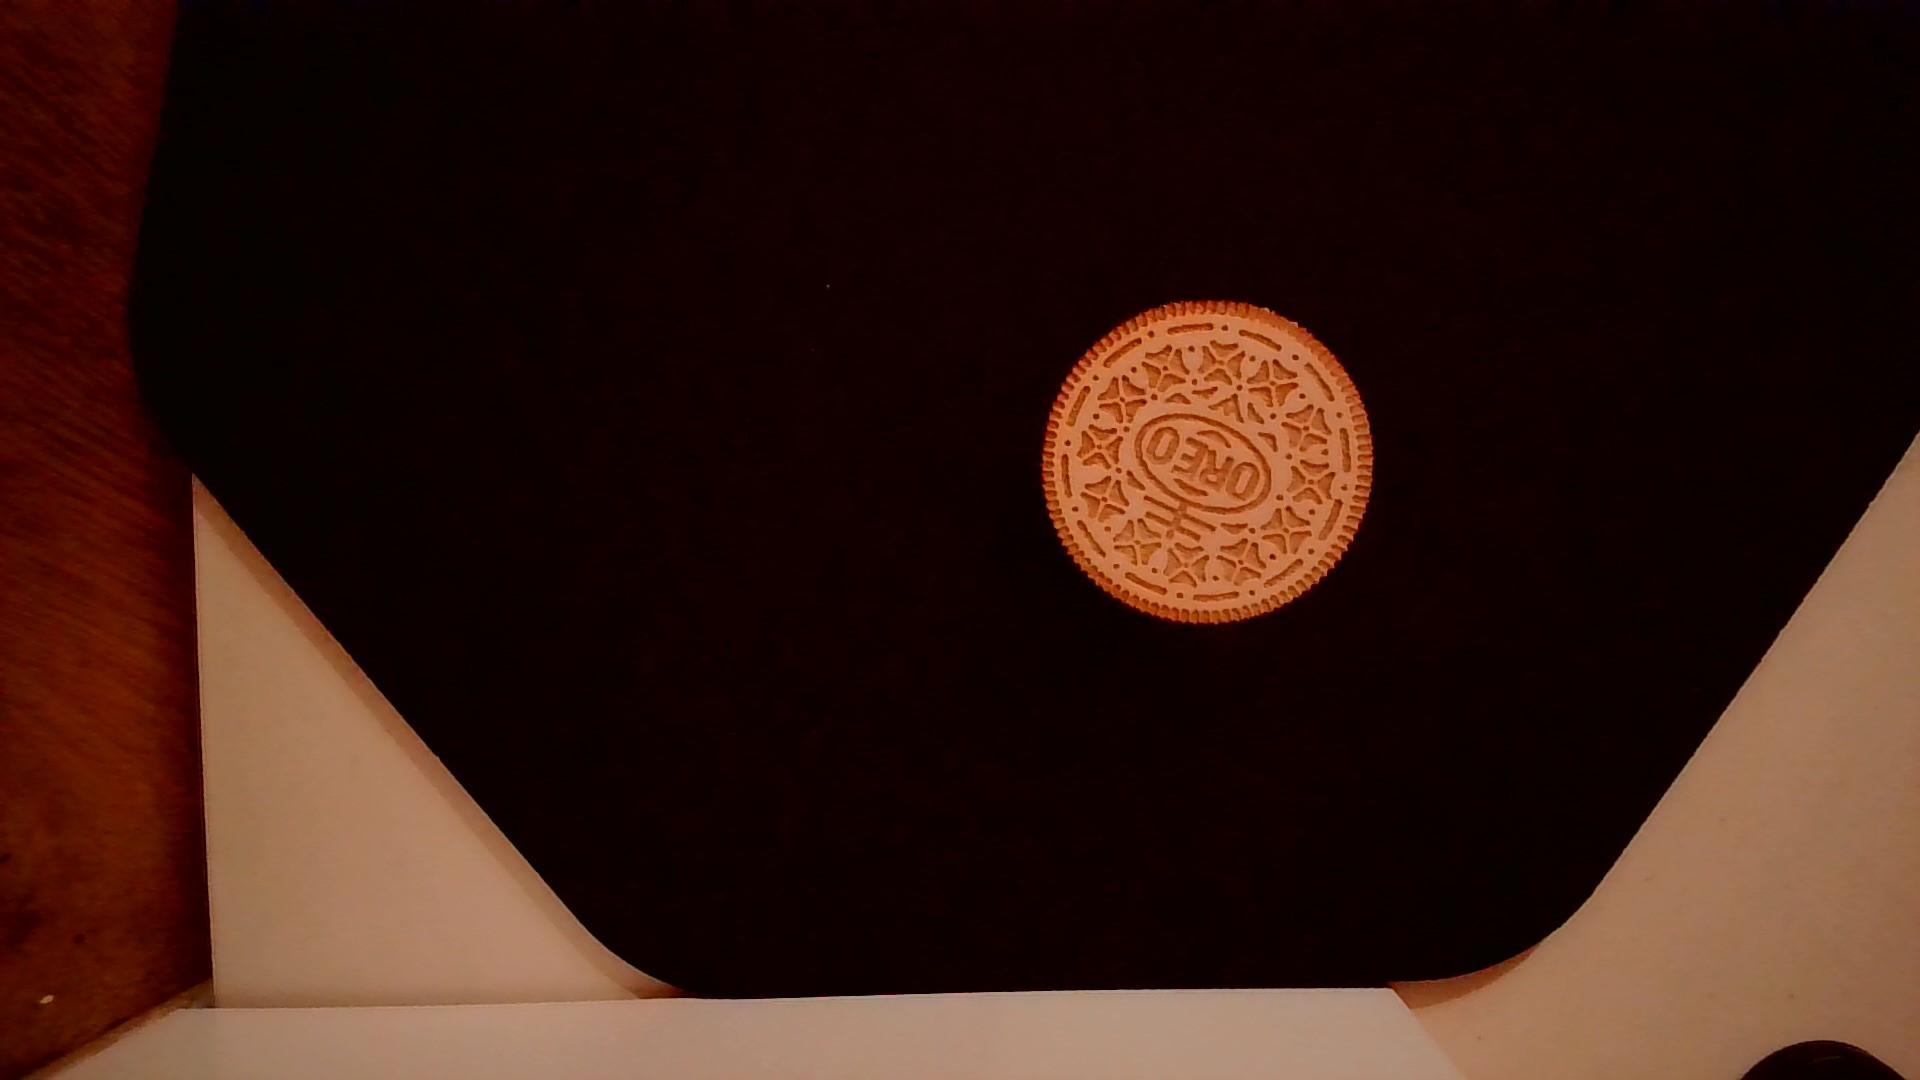Oréo: (1033, 290, 1378, 640)
